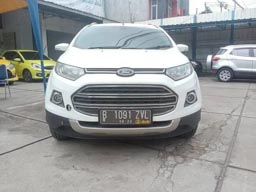plat: (101, 109, 151, 119)
